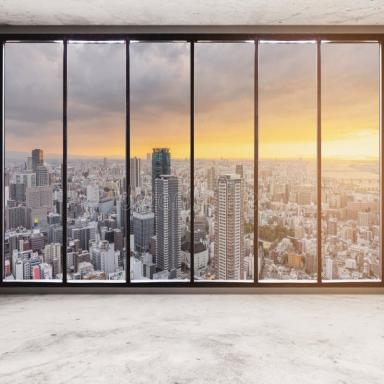glass_panel: (320, 43, 382, 281), (130, 44, 189, 280), (260, 45, 318, 282), (196, 43, 253, 280), (5, 43, 61, 279), (68, 42, 123, 280)
